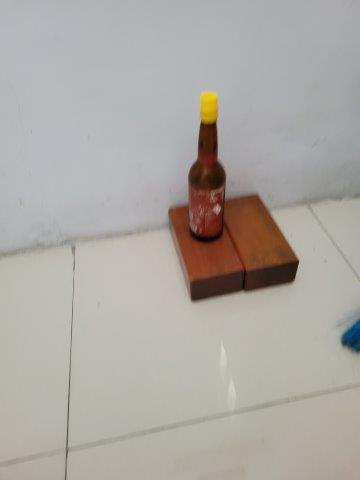botolkaca: (187, 92, 227, 239)
